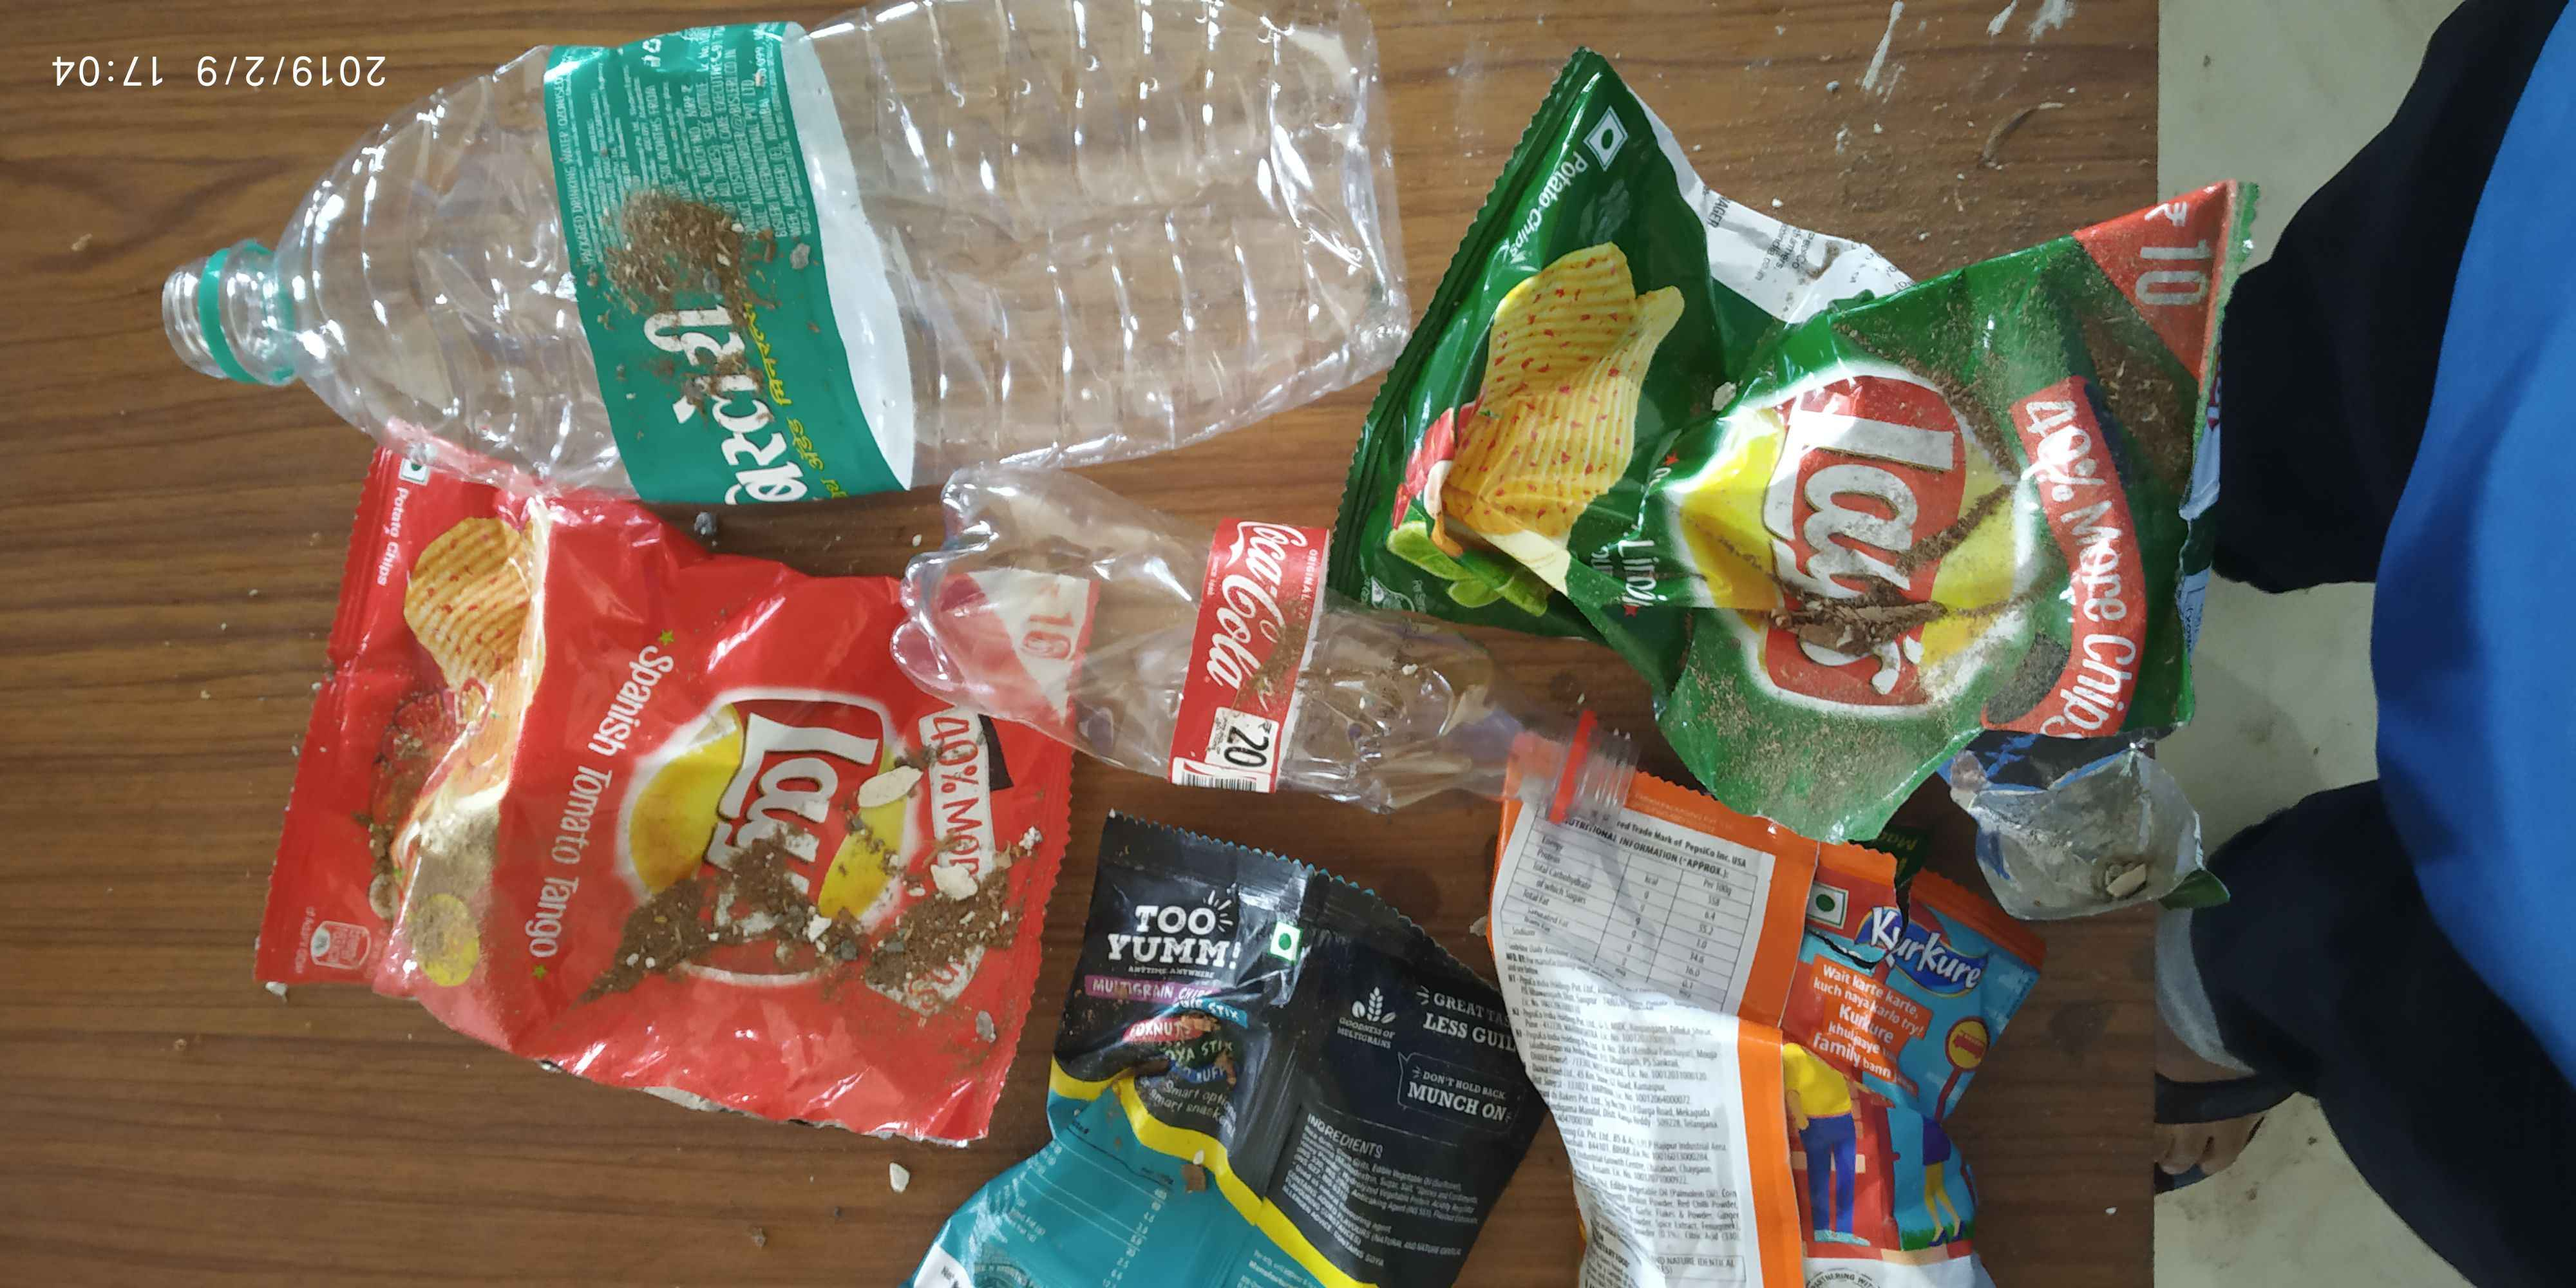Bisleri: (603, 189, 858, 527)
Coca-Cola: (1217, 501, 1303, 724)
Lays: (1656, 343, 2057, 736), (647, 651, 936, 1022)
kurkure: (1809, 879, 2031, 1020)
tooyumm: (1101, 879, 1263, 984)
